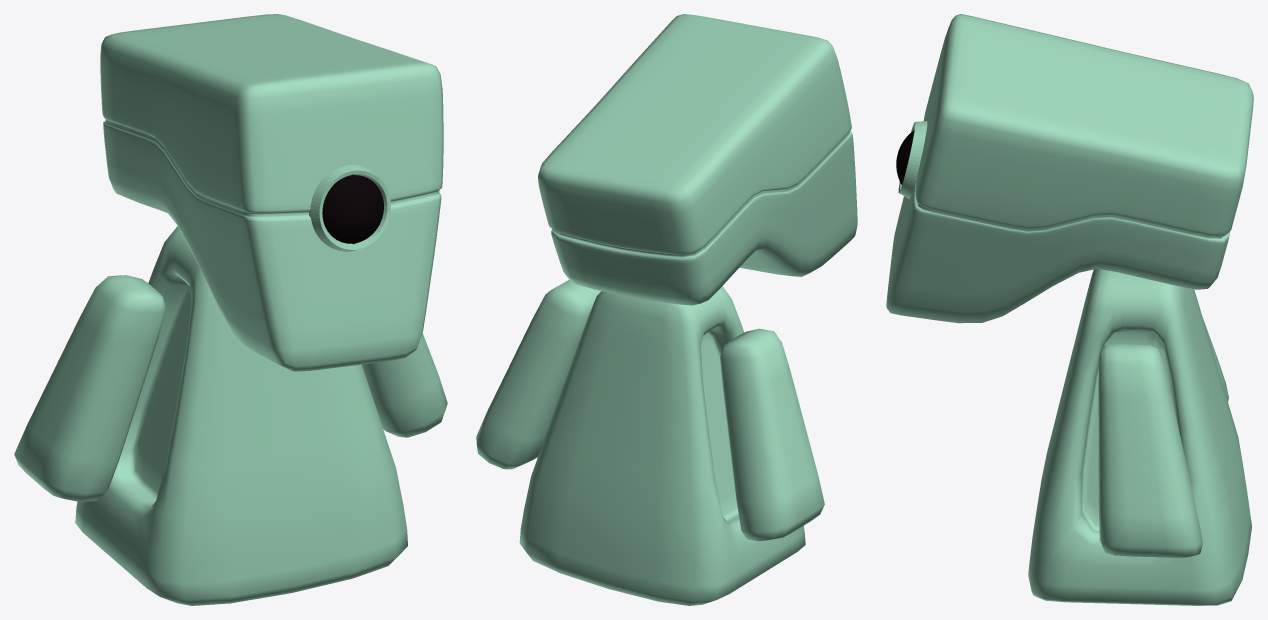
File: Computer.glb
3 renders of one model, left to right at view 1: azimuth 30°, elevation 25°; view 2: azimuth 150°, elevation 25°; view 3: azimuth 270°, elevation 25°, orthographic. The views are drawn at different scales.
Parts seen in each view (by area): view 1: Computer; view 2: Computer; view 3: Computer.
Part boxes in pixels (<box>): Computer: <box>14,14,447,605</box>; Computer: <box>476,14,857,605</box>; Computer: <box>886,14,1253,605</box>.
Size of the model in its own units: 2.14 by 2.95 by 1.92.
